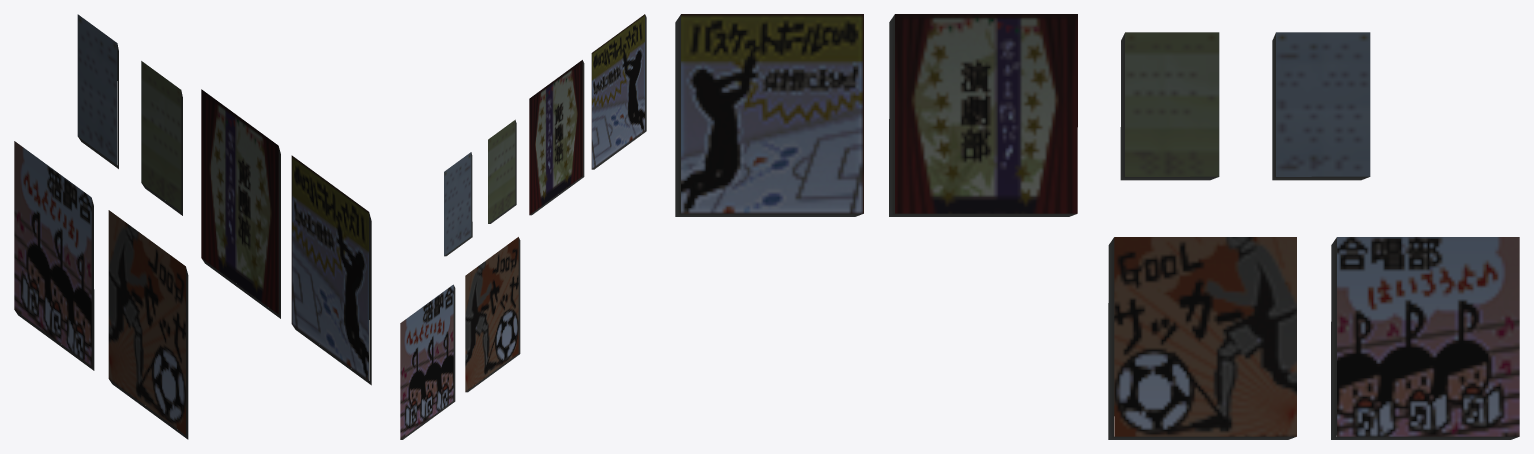
Rendered from HW_infoDNig.FBX.
3 views of the same model, side by side, from view 1: azimuth 30°, elevation 25°; view 2: azimuth 150°, elevation 25°; view 3: azimuth 270°, elevation 25° (orthographic). The views are drawn at different scales.
Parts seen in each view (by area): view 1: HW_infoD_nig00; view 2: HW_infoD_nig00; view 3: HW_infoD_nig00.
Boxes of the visible parts, x1,y1,x2,y2 form: HW_infoD_nig00: [14, 14, 371, 439]; HW_infoD_nig00: [400, 14, 646, 439]; HW_infoD_nig00: [675, 14, 1519, 439].
Bounding box in the file's own units: 0.00208 × 120 × 215.
